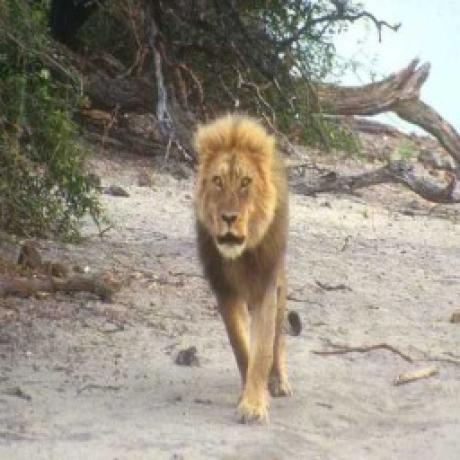Lion: (190, 115, 302, 424)
